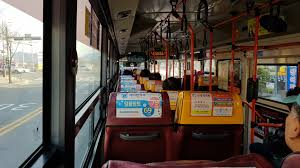seat: (114, 87, 172, 157)
